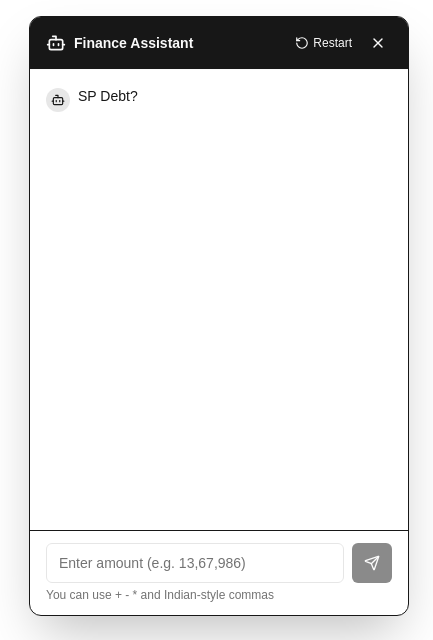
Test: FinanceAssistantChat US Stocks and Bonds steps › asks about Bonds after Structured Products (Debt) and includes both new fields in the summary
Expected: the text "SP Debt?" is shown, top-left (78, 88), bottom-right (138, 104)
Type "0" into the field with placeholder "Enter amount (e.g. 13,67,986)" at (195, 563), box top-left (46, 543), bottom-right (344, 583)
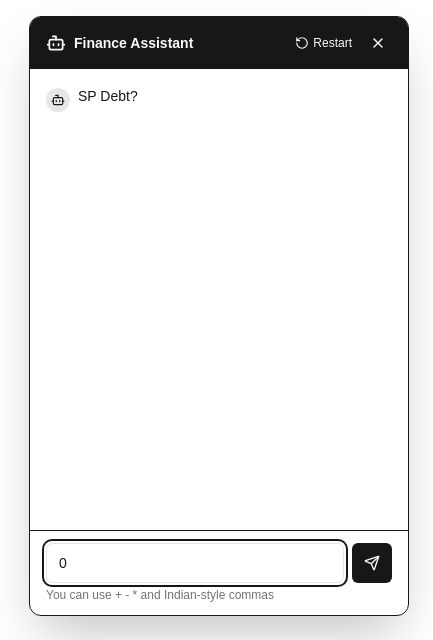
Press Enter
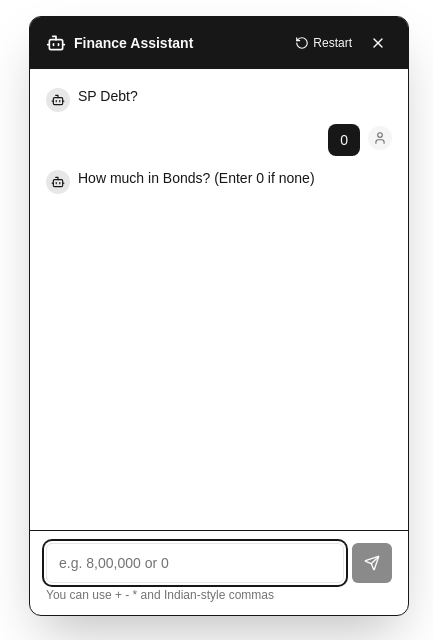
Result: the text "How much in Bonds? (Enter 0 if none)" is shown at top-left (78, 170), bottom-right (315, 186)
Type "3,00,000" into the field with placeholder "e.g. 8,00,000 or 0" at (195, 563), box top-left (46, 543), bottom-right (344, 583)
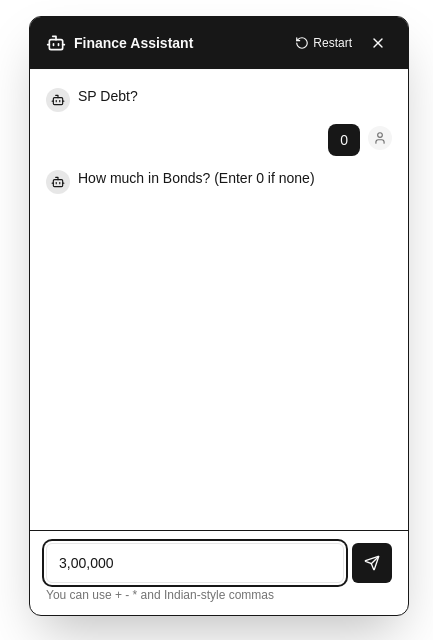
Press Enter
(page scrolled)
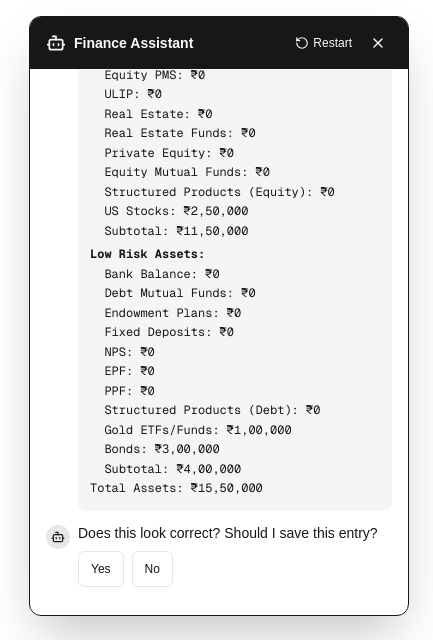
Result: the text "US Stocks: ₹2,50,000" is shown at top-left (90, 203), bottom-right (248, 219)
Result: the text "Bonds: ₹3,00,000" is shown at top-left (90, 441), bottom-right (220, 457)
